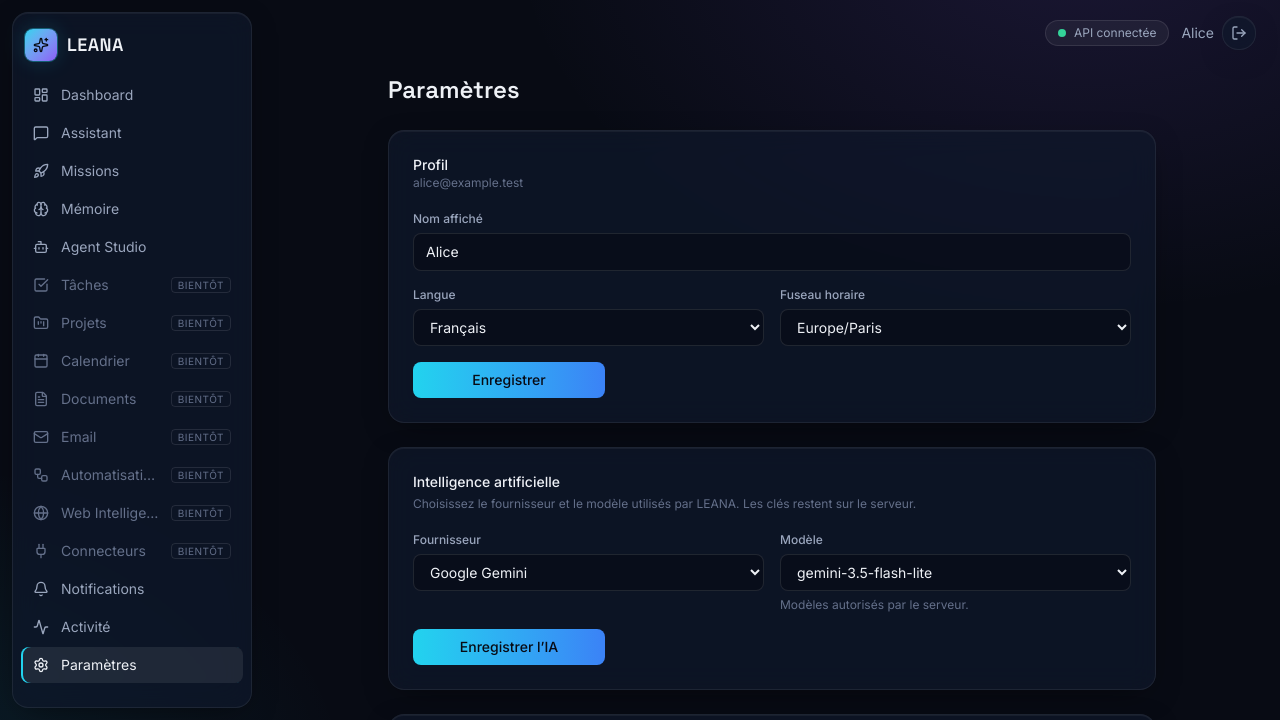
Test: AI settings › switching provider resets the model, and "default" sends nulls
The image size is (1280, 720).
Check: the dropdown labelled "Modèle" shows "gemini-3.5-flash-lite", box [780, 554, 1131, 591]
Select "Par défaut (Google Gemini · gemini-3.6-flash)" in the dropdown labelled "Fournisseur" at (588, 572), box [413, 554, 764, 591]
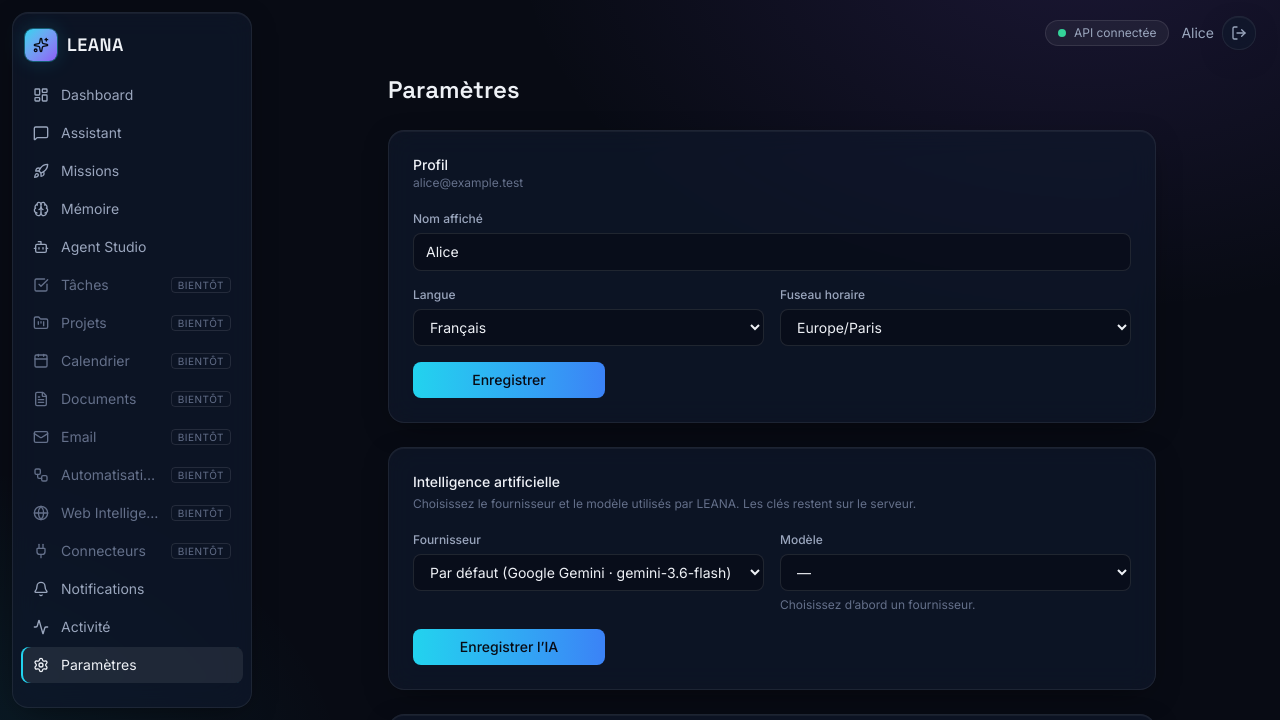
Check: the dropdown labelled "Modèle" shows "—", box [780, 554, 1131, 591]
Click the button "Enregistrer l’IA".
click(509, 647)  # box [413, 629, 605, 665]
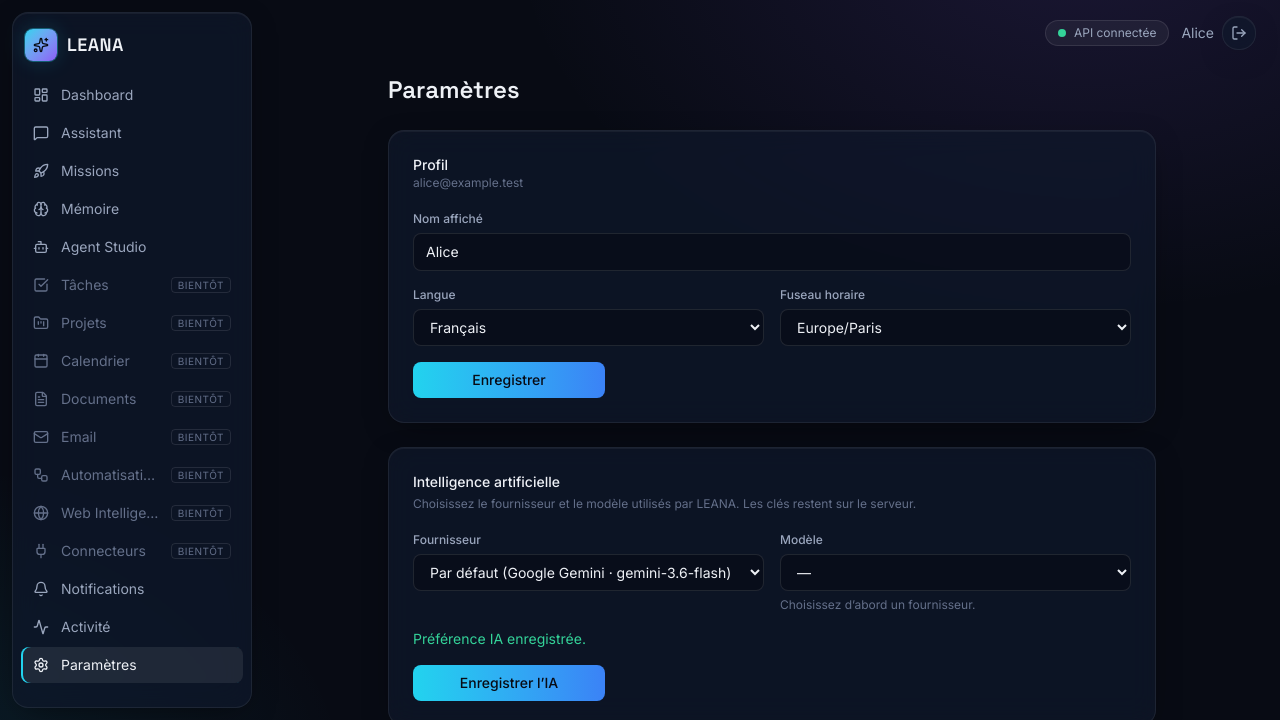
Check: the text "Préférence IA enregistrée." is shown, box [413, 630, 586, 647]
